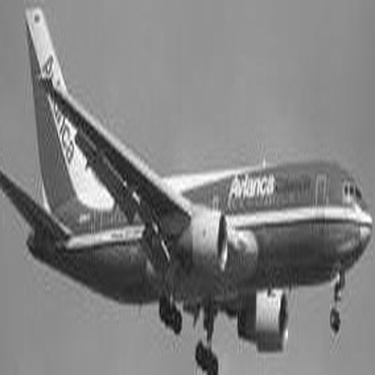airplane: (10, 15, 367, 371)
